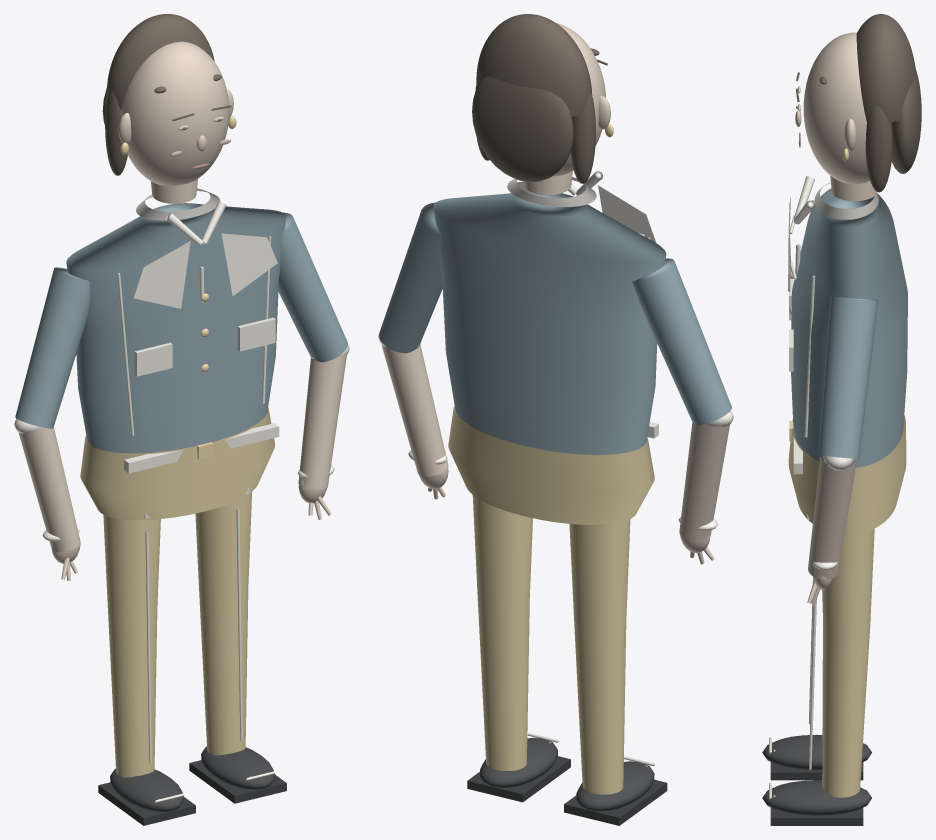
The picture shows the model from 3 angles, left to right: view 1: azimuth 30°, elevation 25°; view 2: azimuth 150°, elevation 25°; view 3: azimuth 270°, elevation 25°; orthographic projection. The views are drawn at different scales.
Parts seen in each view (by area): view 1: StyleFit Parametric Digital Human; view 2: StyleFit Parametric Digital Human; view 3: StyleFit Parametric Digital Human.
Boxes of the visible parts, x1,y1,x2,y2 form: StyleFit Parametric Digital Human: (14, 14, 349, 825); StyleFit Parametric Digital Human: (378, 14, 733, 825); StyleFit Parametric Digital Human: (762, 14, 921, 825).
Bounding box in the file's own units: 1 × 2.17 × 0.4058.
